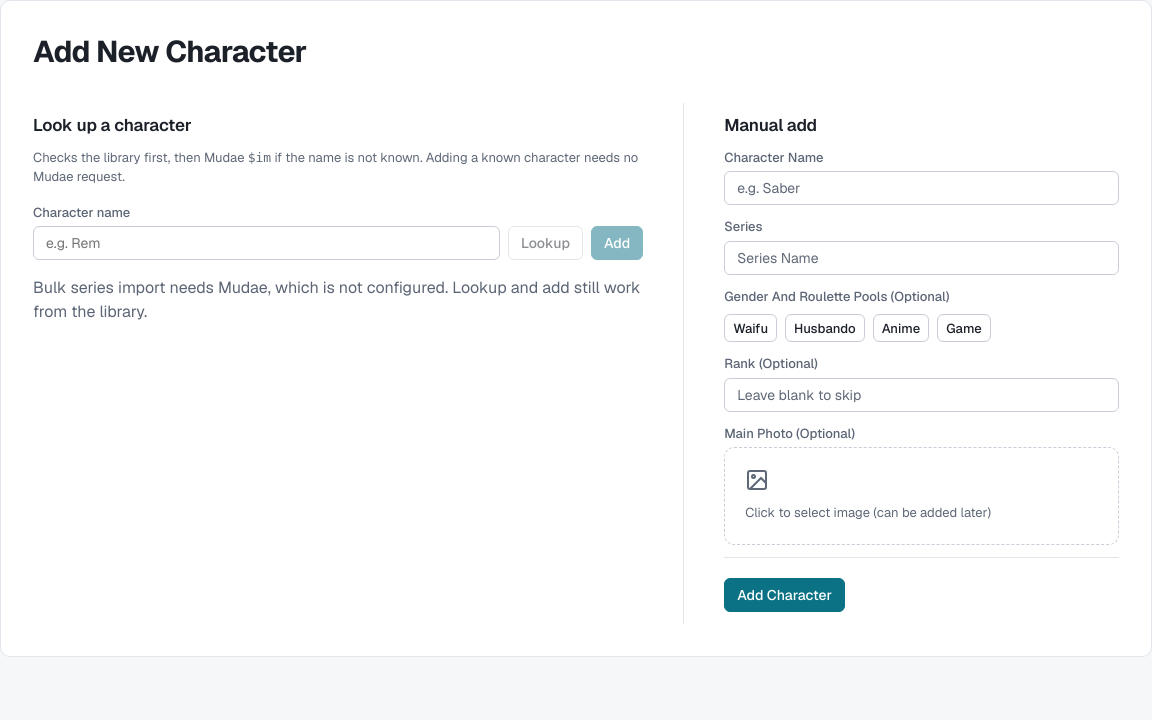
Test: AddPage catalog integration › offers the matched name's series as the only series suggestion
Type "Saber" into the dropdown labelled "Character Name" at (922, 188), box [724,171,1119,205]
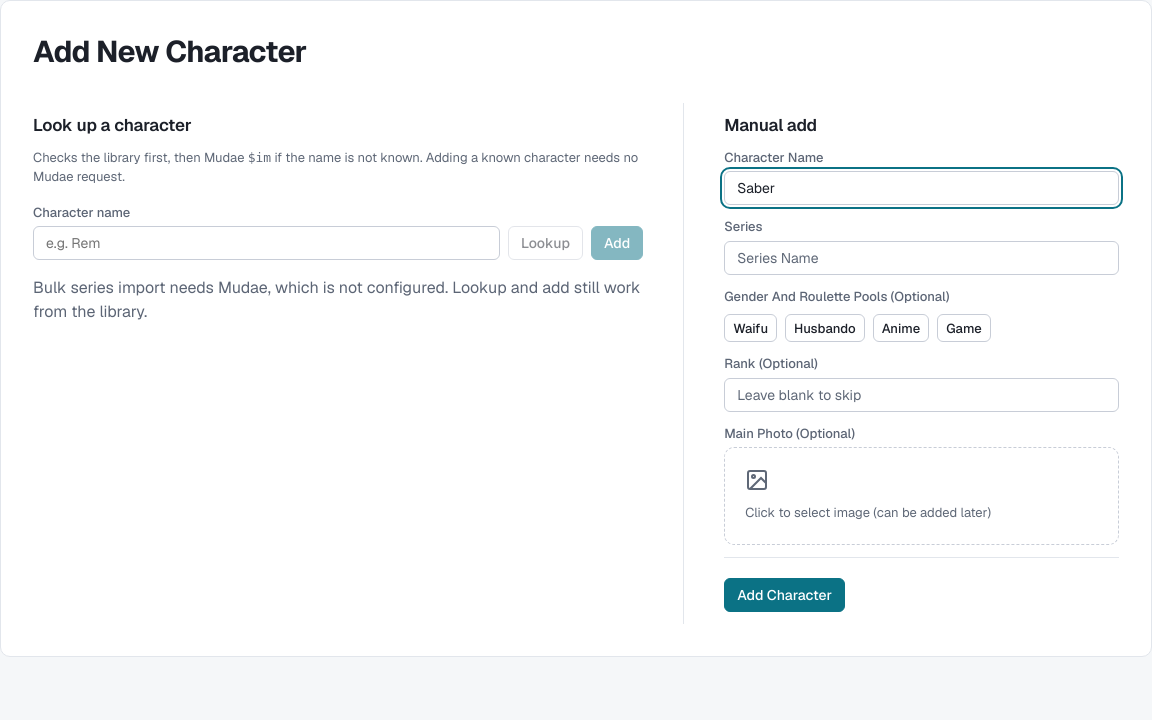
Click the dropdown labelled "Series" at (922, 258), box [724,241,1119,275]
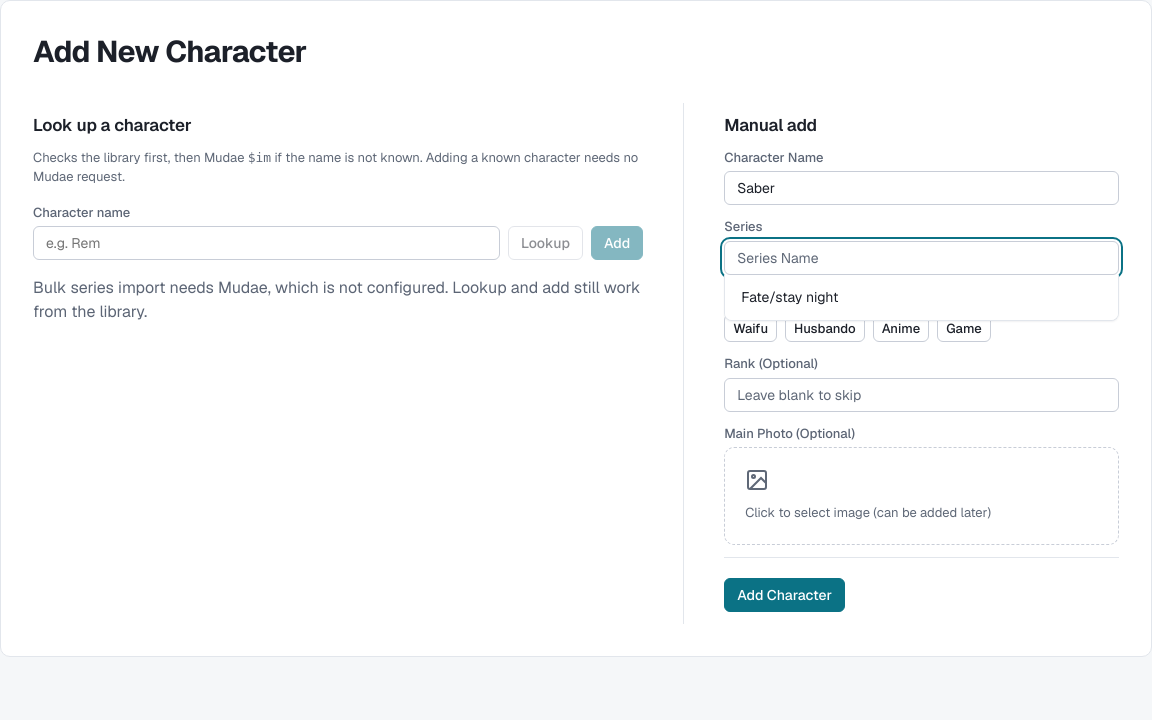
Now the number of options is 1, box [725,275,1118,320]
Now the option reads "Fate/stay night", box [725,275,1118,320]
